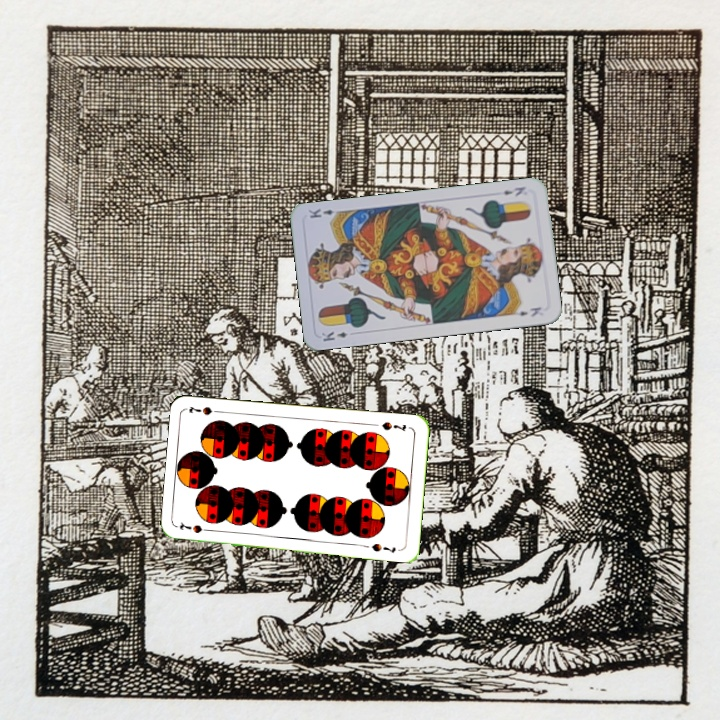EK: (318, 328, 350, 344), (499, 182, 528, 199)
S7: (176, 519, 215, 536), (378, 418, 409, 434)
